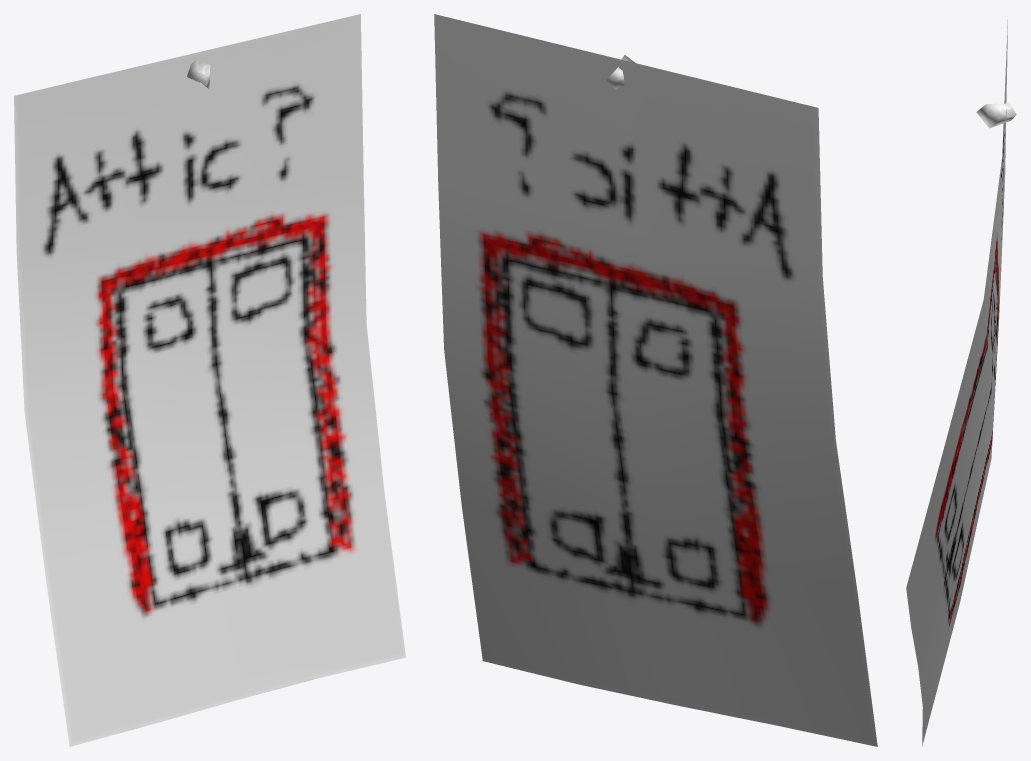
The model's file is Drawings 3.fbx.
The picture shows the model from 3 angles, left to right: view 1: azimuth 30°, elevation 25°; view 2: azimuth 150°, elevation 25°; view 3: azimuth 270°, elevation 25°; orthographic projection. The views are drawn at different scales.
Visible parts, largest first — view 1: Plane.015; view 2: Plane.015; view 3: Plane.015.
Boxes of the visible parts, box(x1,y1,x2,y2) form: Plane.015: box(14, 14, 405, 746); Plane.015: box(434, 14, 877, 746); Plane.015: box(906, 19, 1016, 746).
Bounding box in the file's own units: 6.08 × 10.21 × 1.78.
